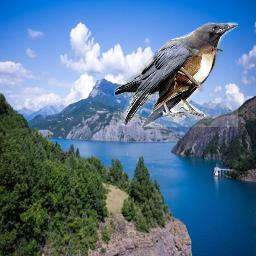Crow: (114, 22, 238, 127)
Cuckoo: (154, 45, 223, 112)
